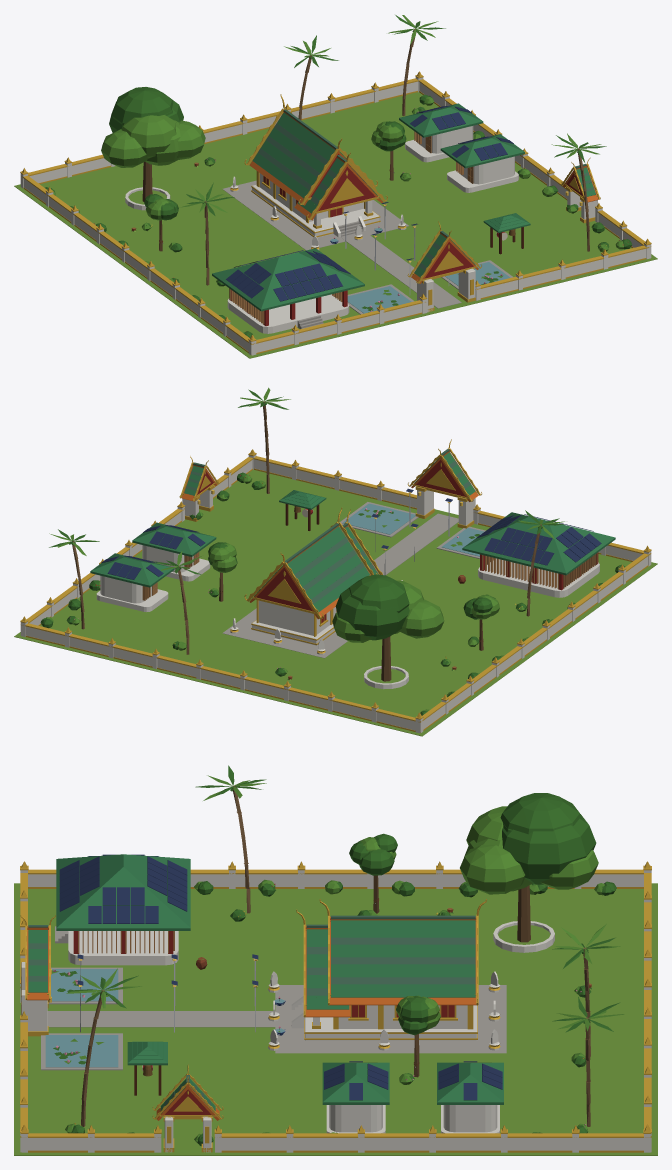
File: temple_1.glb
3 renders of one model, top to bottom at view 1: azimuth 30°, elevation 25°; view 2: azimuth 150°, elevation 25°; view 3: azimuth 270°, elevation 25°, orthographic. The views are drawn at different scales.
Parts seen in each view (by area): view 1: body; view 2: body; view 3: body.
Boxes of the visible parts, x1,y1,x2,y2 form: body: [14, 15, 657, 358]; body: [14, 387, 657, 736]; body: [14, 765, 657, 1155].
Size of the model in its own units: 47.9 by 12.13 by 47.9.
